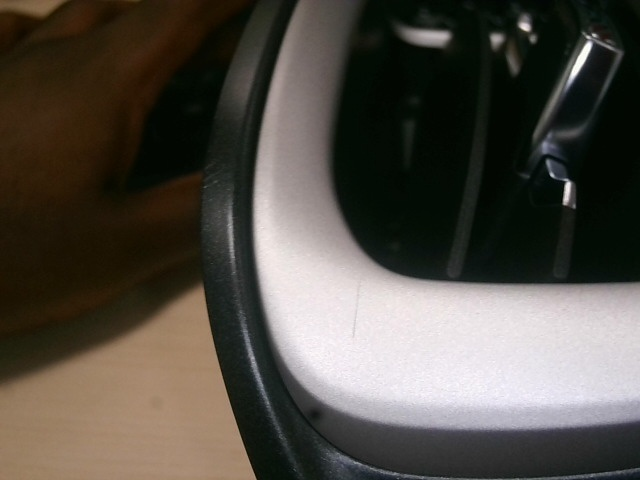NG: (346, 278, 376, 344), (201, 163, 226, 203)
